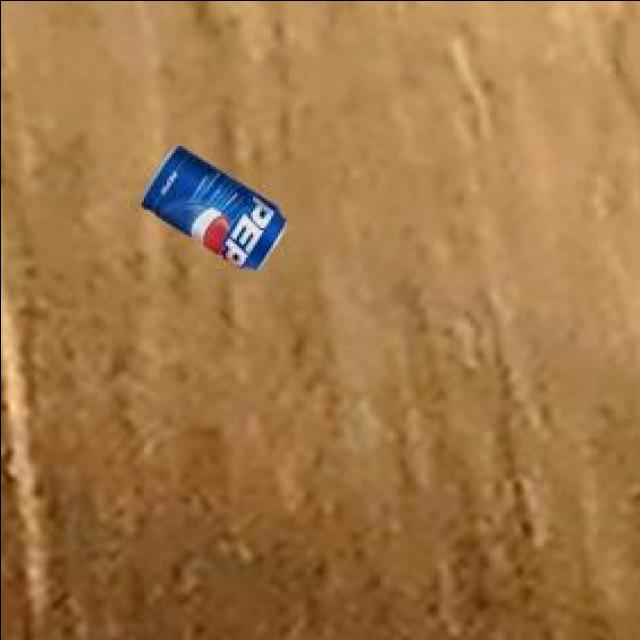logam: (137, 142, 283, 264)
